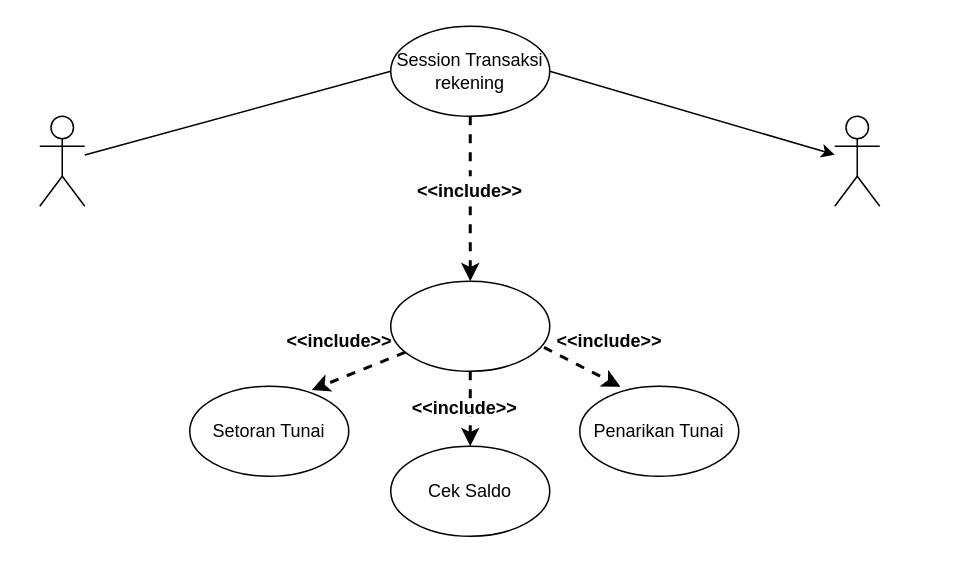
This 959x563 diagram has some shape labels left out. The centre of each missing label's shape, as x and y in pixels:
"Administrator Bank" goes at pixel 856 160.
"Nasabah" goes at pixel 61 160.
"Validasi PIN" goes at pixel 469 325.
